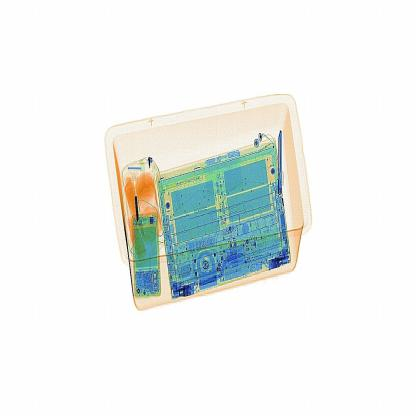pliers: (268, 127, 298, 195)
